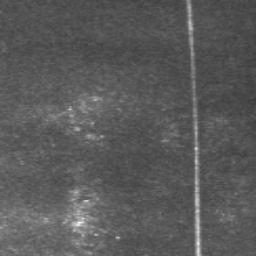Bright scratch: (187, 0, 201, 256)
